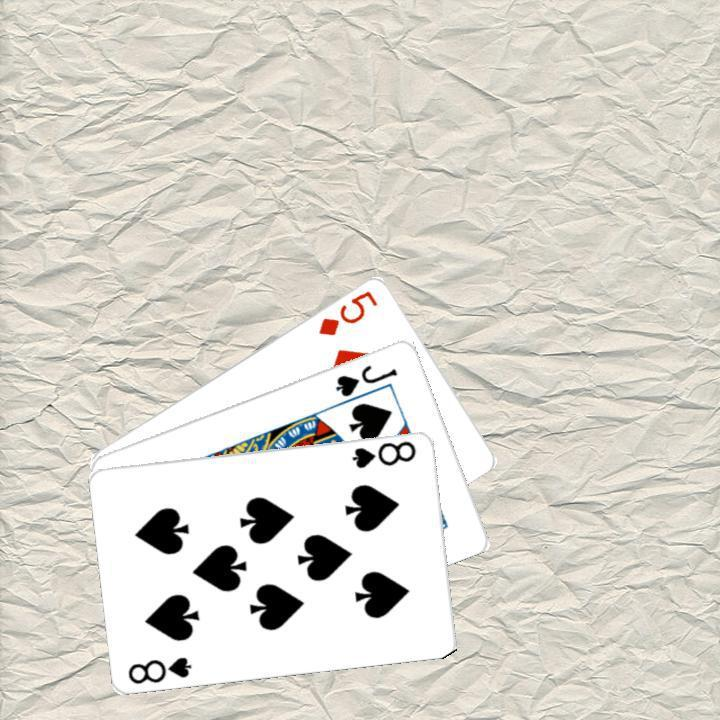5: (314, 285, 380, 338)
8: (348, 436, 418, 470), (124, 652, 194, 685)
J: (331, 360, 400, 399)
